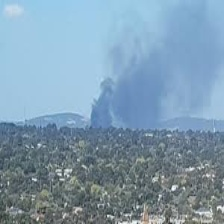smoke: (90, 24, 176, 125)
